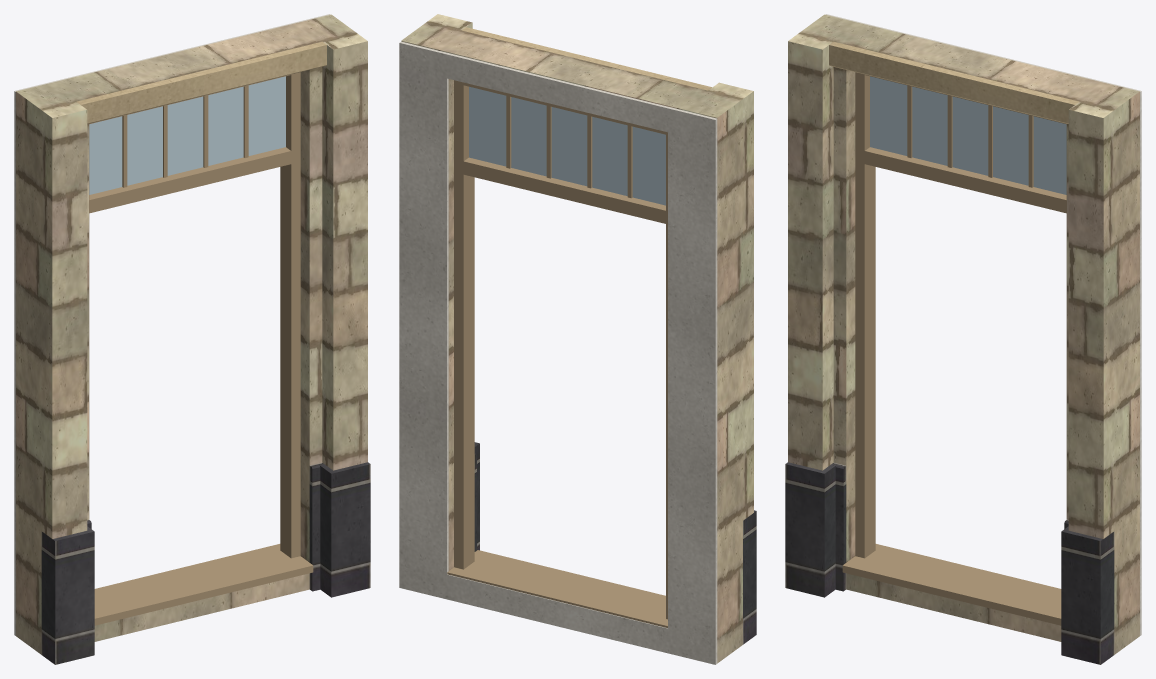
The model's file is f_g_doors.glb.
The picture shows the model from 3 angles, left to right: view 1: azimuth 30°, elevation 25°; view 2: azimuth 150°, elevation 25°; view 3: azimuth 330°, elevation 25°; orthographic projection.
Parts seen in each view (by area): view 1: f_g_doors_terra, f_g_doors_bronze, f_g_doors_plinth, f_g_doors_glass, f_g_doors_terra2, f_g_doors_plaster; view 2: f_g_doors_plaster, f_g_doors_terra, f_g_doors_bronze, f_g_doors_glass, f_g_doors_plinth, f_g_doors_terra2; view 3: f_g_doors_terra, f_g_doors_bronze, f_g_doors_plinth, f_g_doors_glass, f_g_doors_terra2, f_g_doors_plaster.
Boxes of the visible parts, <box> form: f_g_doors_terra: <box>16,14,367,654</box>; f_g_doors_bronze: <box>89,72,313,625</box>; f_g_doors_plinth: <box>41,462,370,664</box>; f_g_doors_glass: <box>89,76,285,194</box>; f_g_doors_terra2: <box>76,41,326,123</box>; f_g_doors_plaster: <box>14,14,330,635</box>; f_g_doors_plaster: <box>399,41,717,664</box>; f_g_doors_terra: <box>401,14,753,663</box>; f_g_doors_bronze: <box>447,80,667,627</box>; f_g_doors_glass: <box>469,86,665,205</box>; f_g_doors_plinth: <box>474,442,756,644</box>; f_g_doors_terra2: <box>462,27,711,90</box>; f_g_doors_terra: <box>788,14,1139,654</box>; f_g_doors_bronze: <box>842,72,1066,625</box>; f_g_doors_plinth: <box>785,462,1114,664</box>; f_g_doors_glass: <box>870,76,1066,194</box>; f_g_doors_terra2: <box>829,41,1079,123</box>; f_g_doors_plaster: <box>825,14,1141,635</box>.
Bounding box in the file's own units: 2 × 3.3 × 0.45.
6 materials, 4 textured.
